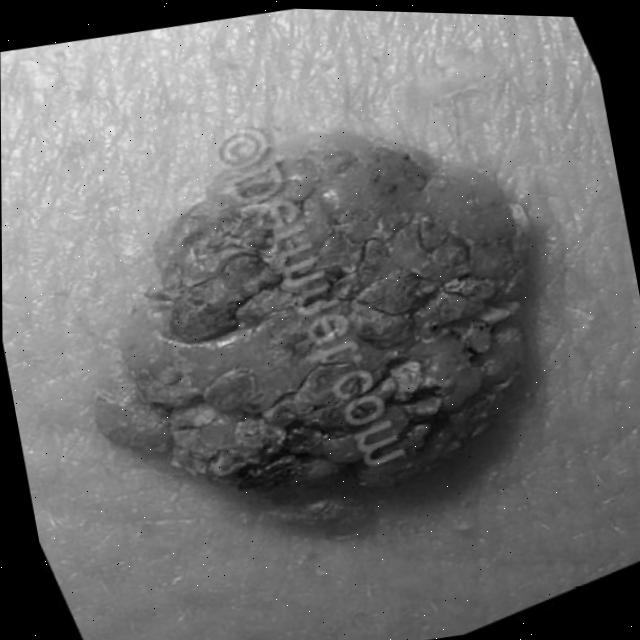Eczema: (123, 145, 546, 475)
